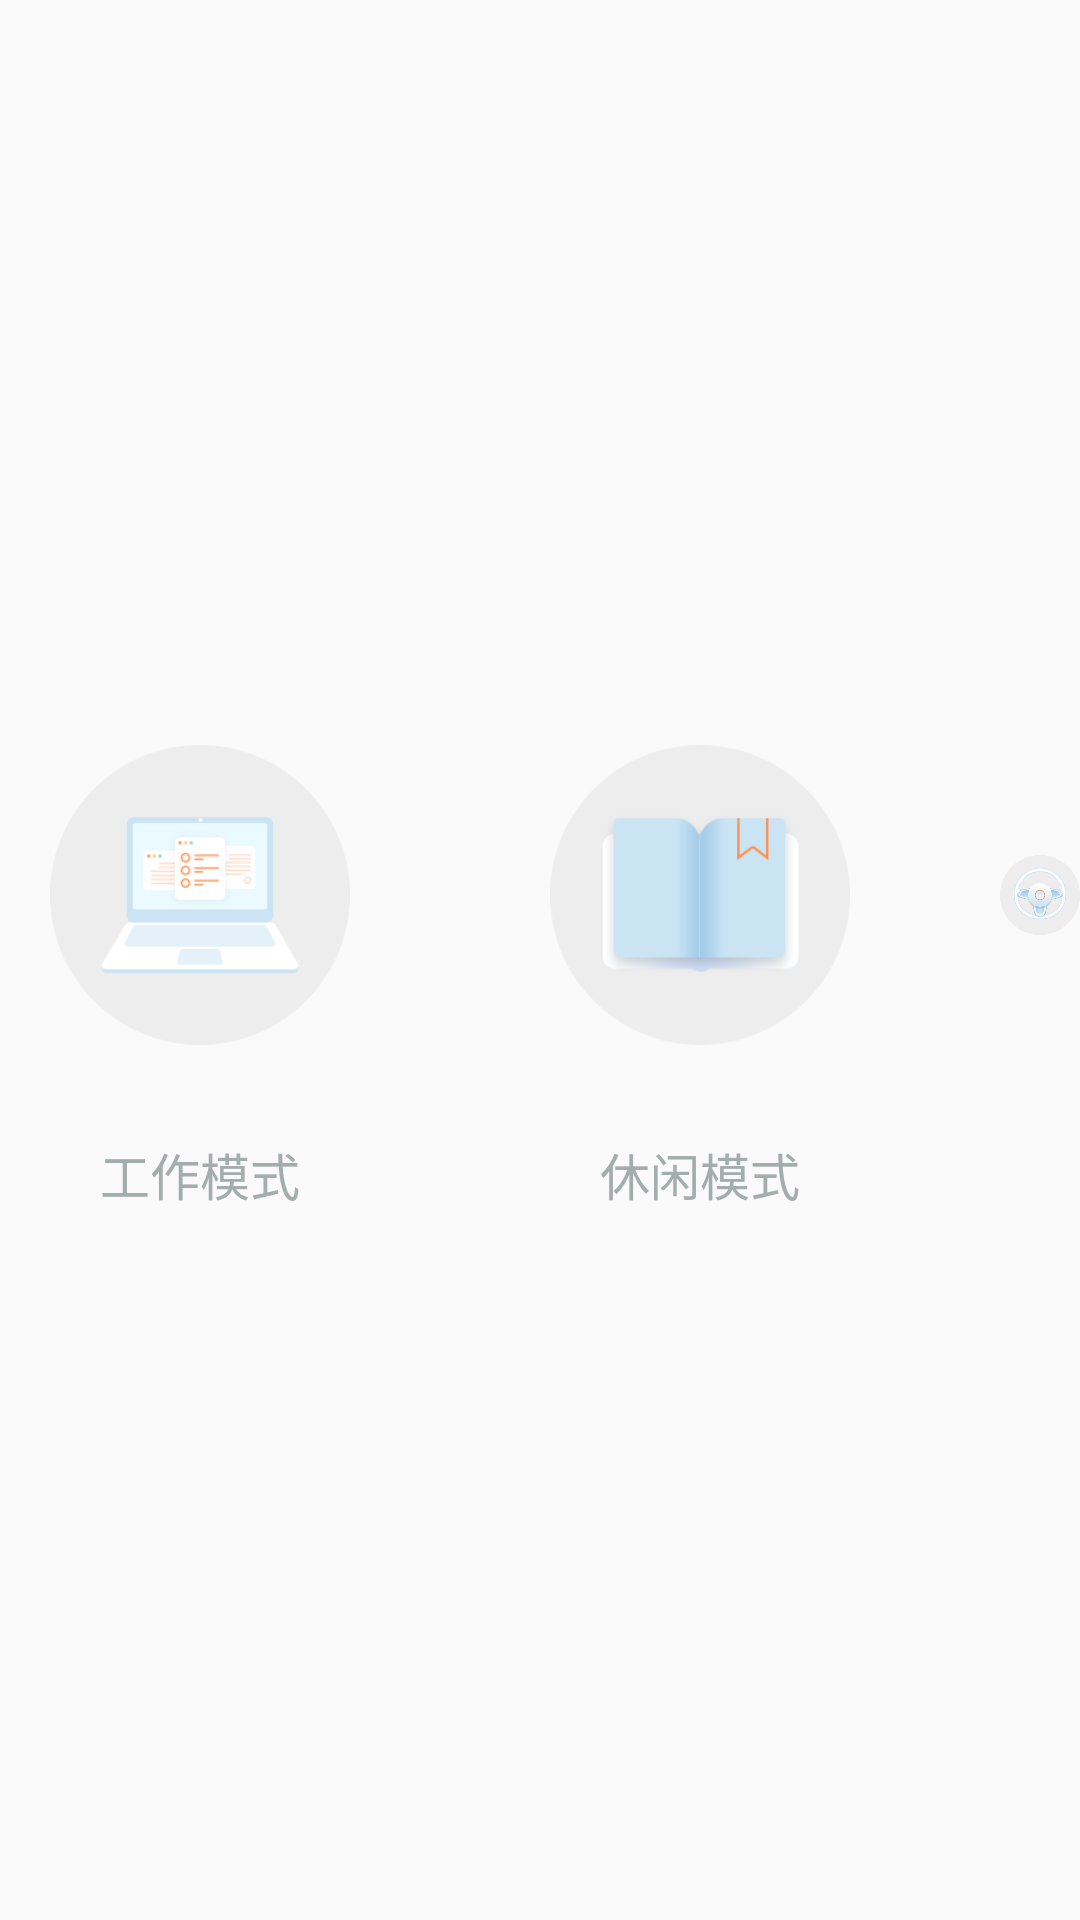

Point at icon controls on the screen. Image size 1080 × 1920, points as point (x, y).
drive mode: point (1040, 895)
leisure mode: point (699, 895)
work mode: point (200, 895)
